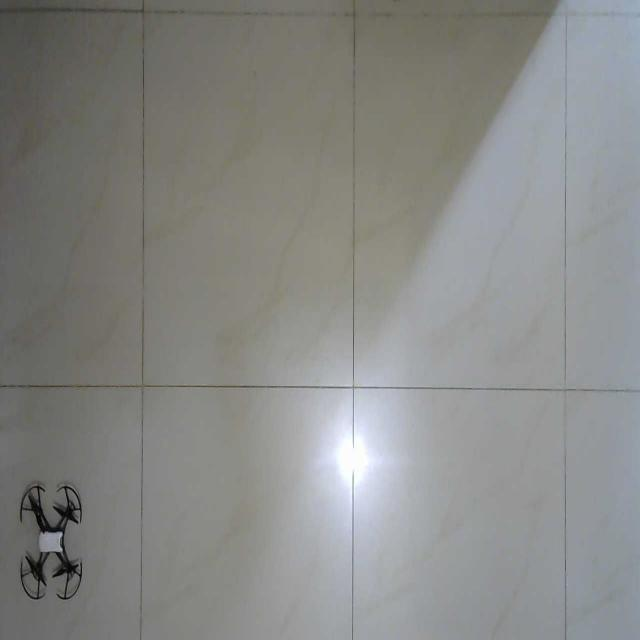drone: (18, 486, 82, 602)
